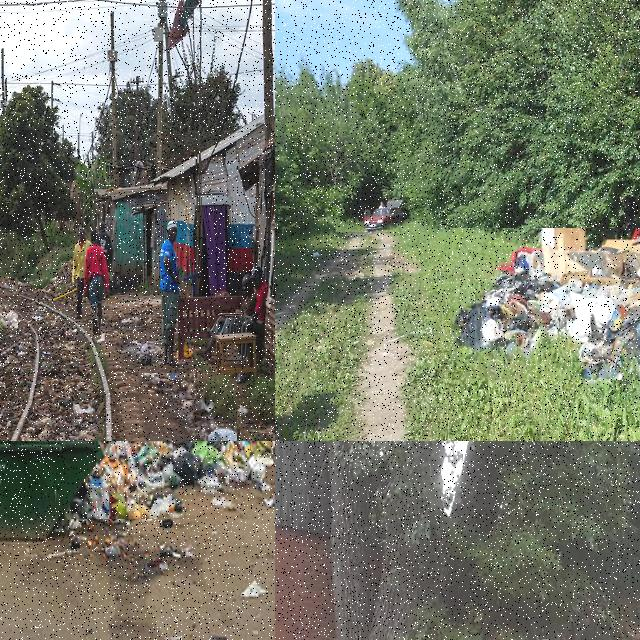lixeira: (453, 229, 639, 382), (62, 441, 274, 522), (139, 373, 239, 440), (241, 399, 274, 440)
